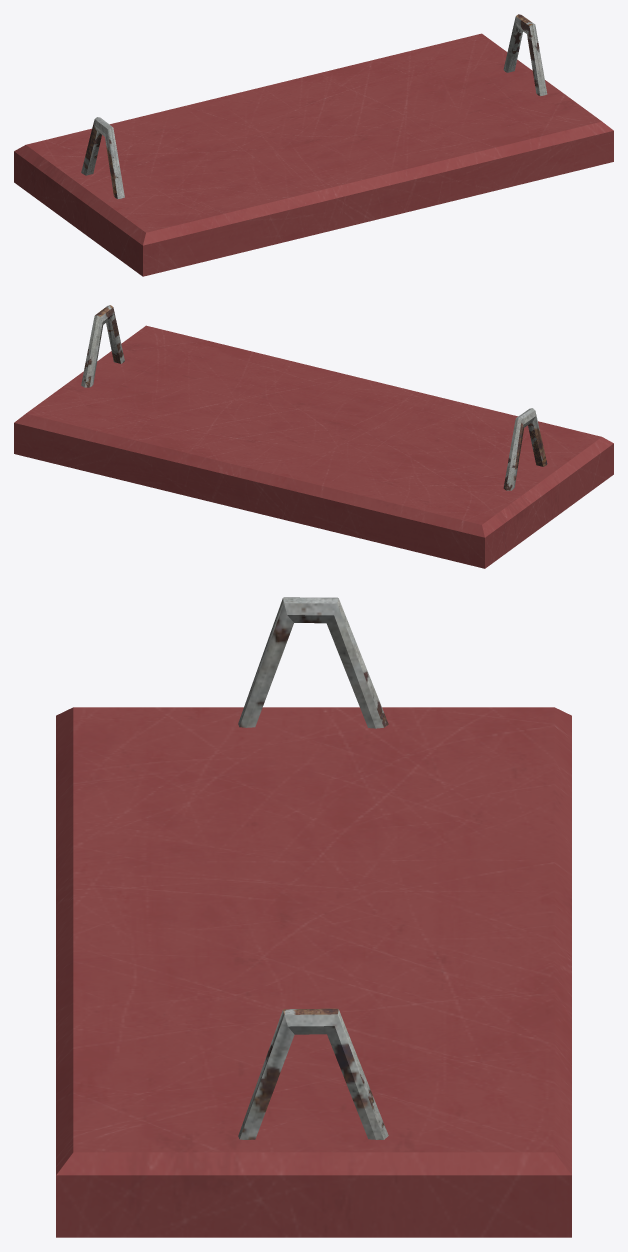
Rendered from SwingSeat.fbx.
The picture shows the model from 3 angles, top to bottom: view 1: azimuth 30°, elevation 25°; view 2: azimuth 150°, elevation 25°; view 3: azimuth 270°, elevation 25°; orthographic projection. The views are drawn at different scales.
Parts seen in each view (by area): view 1: chainlink:chainlink:SwingSeat; view 2: chainlink:chainlink:SwingSeat; view 3: chainlink:chainlink:SwingSeat.
Boxes of the visible parts, x1=… form: chainlink:chainlink:SwingSeat: x1=14, y1=14, x2=613, y2=276; chainlink:chainlink:SwingSeat: x1=14, y1=305, x2=613, y2=568; chainlink:chainlink:SwingSeat: x1=56, y1=597, x2=571, y2=1237.
Bounding box in the file's own units: 37.96 × 8.71 × 18.
